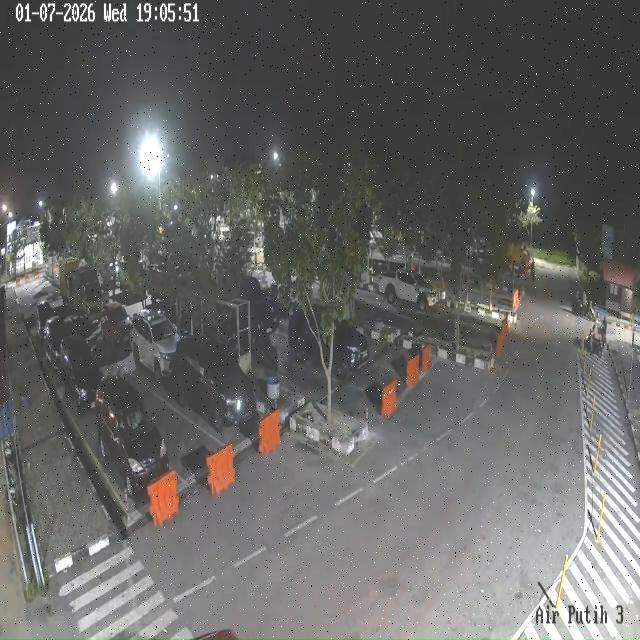Golongan IVA: (96, 376, 170, 498), (172, 336, 257, 432), (288, 306, 369, 380), (130, 309, 178, 383), (60, 336, 103, 412), (101, 301, 131, 343), (43, 315, 66, 369), (35, 300, 54, 341)
Golongan IVB: (378, 270, 437, 312)
Golongan VB: (66, 265, 109, 320), (58, 257, 80, 302)
